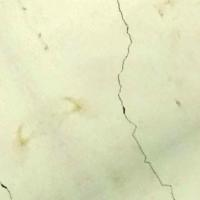crack: (99, 0, 147, 150)
